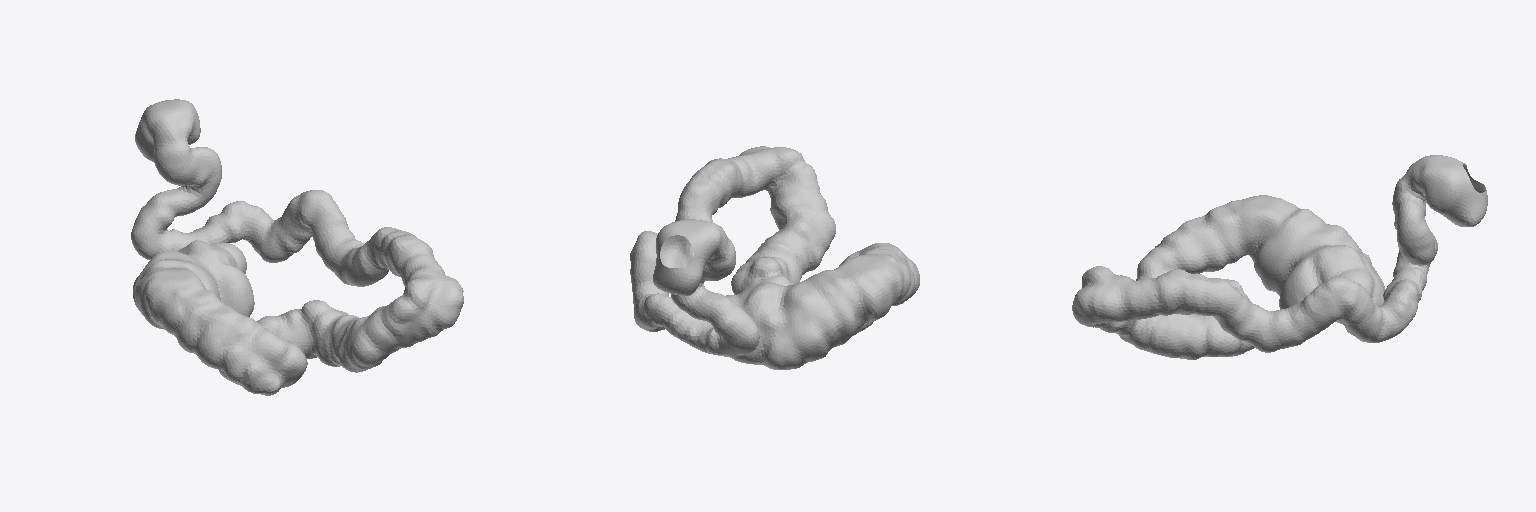
The model's file is 2D_Interior_40000_smooth.obj.
3 views of the same model, side by side, from view 1: azimuth 30°, elevation 25°; view 2: azimuth 150°, elevation 25°; view 3: azimuth 270°, elevation 25° (orthographic).
Parts seen in each view (by area): view 1: 2D_Interior_40000; view 2: 2D_Interior_40000; view 3: 2D_Interior_40000.
Part boxes in pixels (left/top/right/bottom): 2D_Interior_40000: left=131, top=99, right=463, bottom=395; 2D_Interior_40000: left=630, top=146, right=919, bottom=369; 2D_Interior_40000: left=1072, top=155, right=1487, bottom=359.
Bounding box in the file's own units: 267 × 197 × 401.